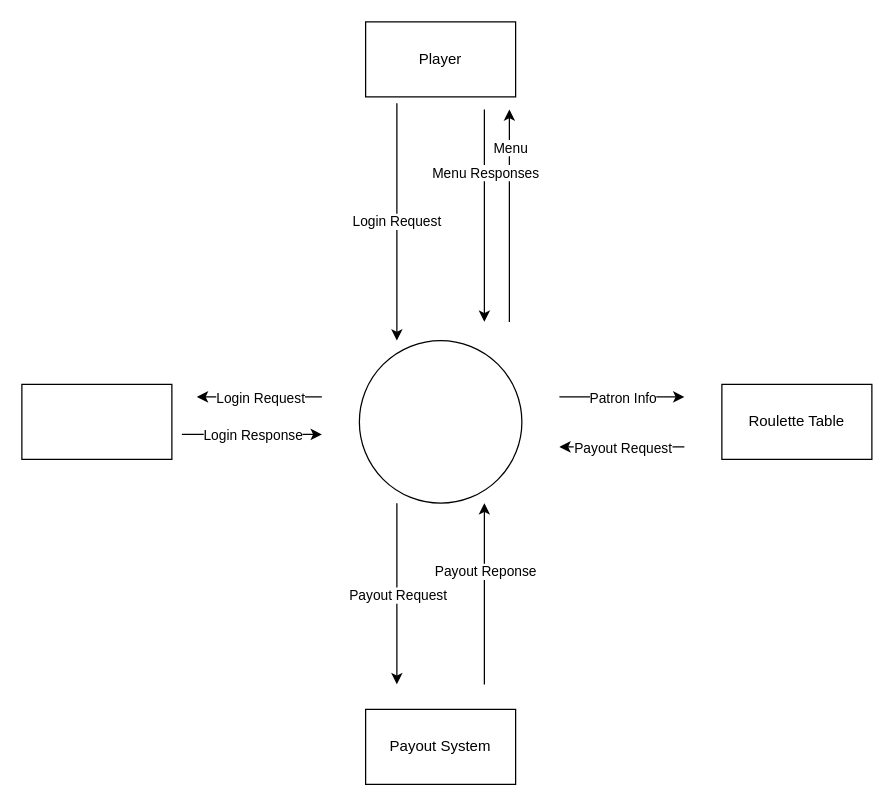
The diagram is 894 pixels wide and 806 high, and some of its shapes have lost their labels. Here are the shapes that lost their labels. From the top down, the centre of each, then its label:
the point at 96,421: Player Manager
the point at 440,421: Casino De Science
